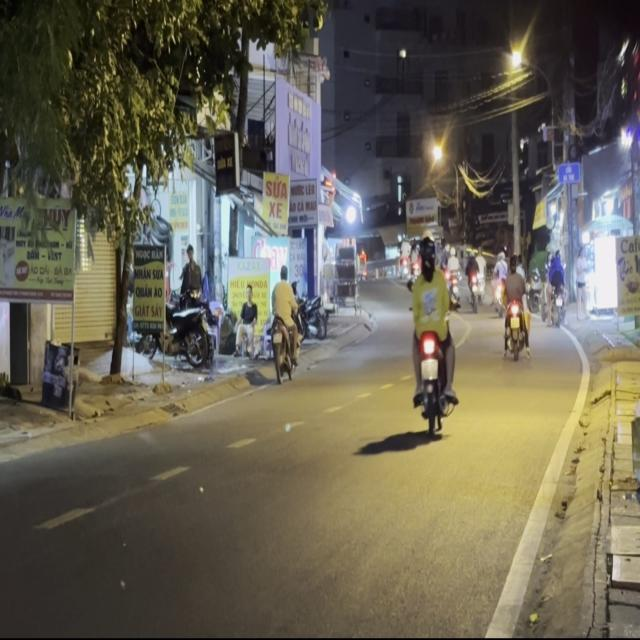helmet: (418, 235, 436, 274)
licenseplate: (406, 233, 458, 437)
nohelmet: (421, 358, 437, 378)
